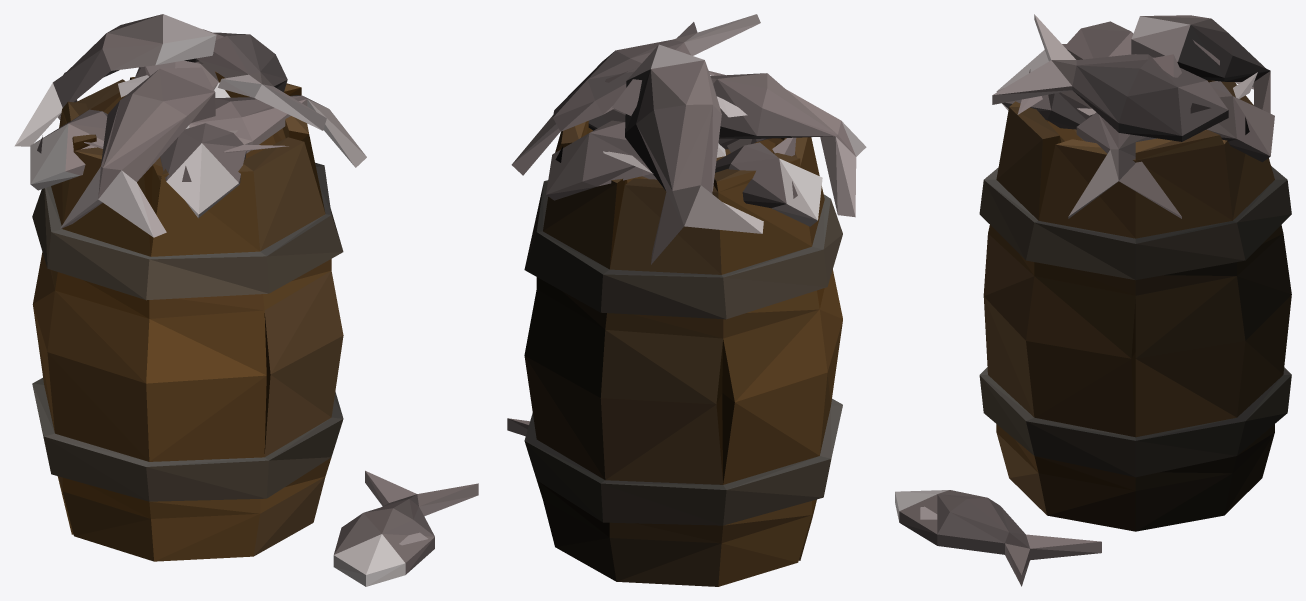
File: barrel_of_fish.obj
3 views of the same model, side by side, from view 1: azimuth 30°, elevation 25°; view 2: azimuth 150°, elevation 25°; view 3: azimuth 270°, elevation 25° (orthographic). The views are drawn at different scales.
Visible parts, largest first — view 1: Object Barrel 2026-09-13_16-35-17; view 2: Object Barrel 2026-09-13_16-35-17; view 3: Object Barrel 2026-09-13_16-35-17.
Boxes of the visible parts, x1,y1,x2,y2 form: Object Barrel 2026-09-13_16-35-17: (14, 14, 478, 586); Object Barrel 2026-09-13_16-35-17: (507, 14, 866, 586); Object Barrel 2026-09-13_16-35-17: (895, 14, 1291, 586).
Bounding box in the file's own units: 100 × 119 × 94.
